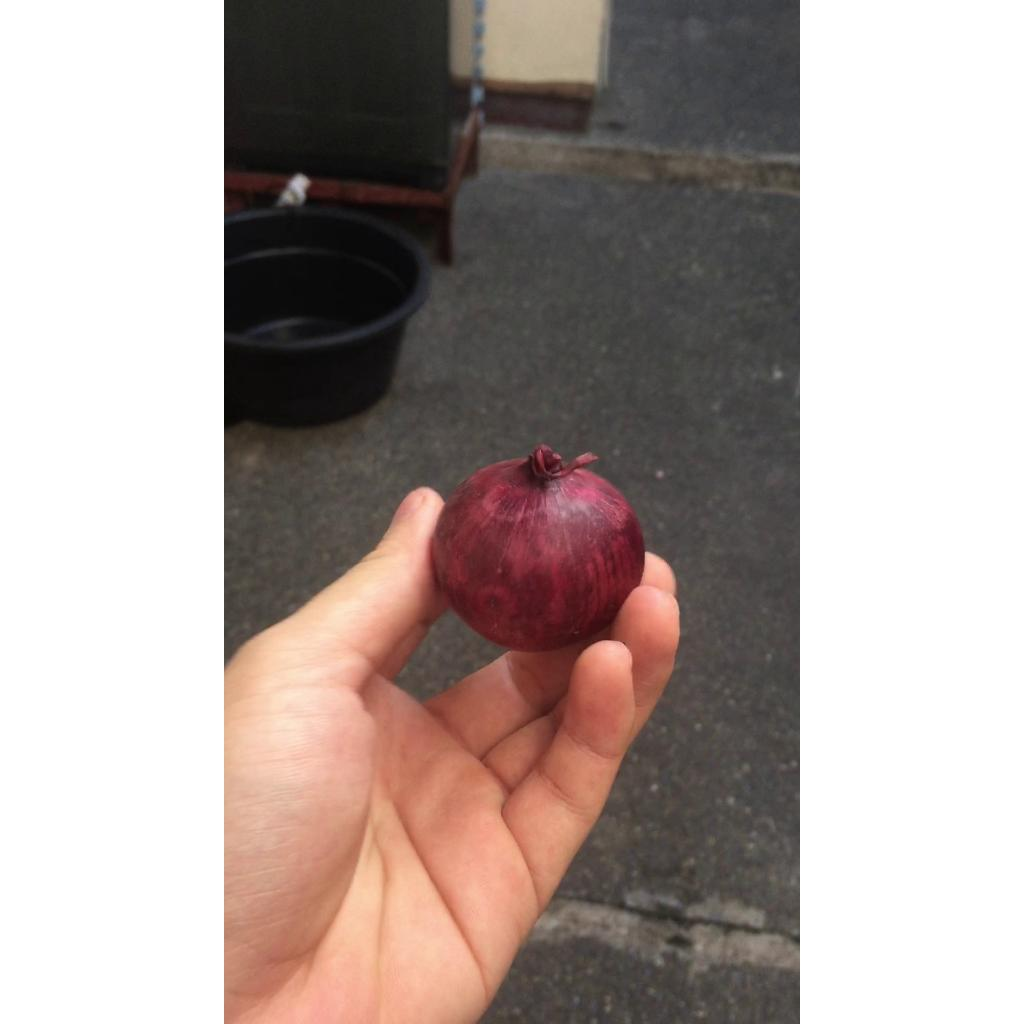Onion: (433, 444, 644, 652)
